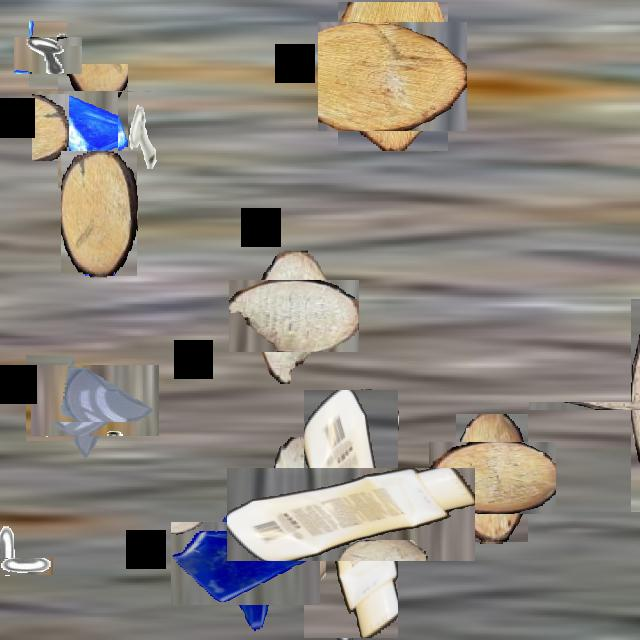glass: (188, 505, 304, 622), (45, 350, 145, 450), (45, 77, 142, 175)
metal: (118, 92, 170, 185), (26, 355, 74, 441), (22, 29, 74, 81), (0, 540, 35, 593)
plastic: (266, 428, 437, 600)
wood: (328, 12, 458, 141), (243, 266, 345, 367), (442, 428, 542, 528), (61, 151, 137, 276), (580, 349, 640, 461), (274, 438, 326, 526)
